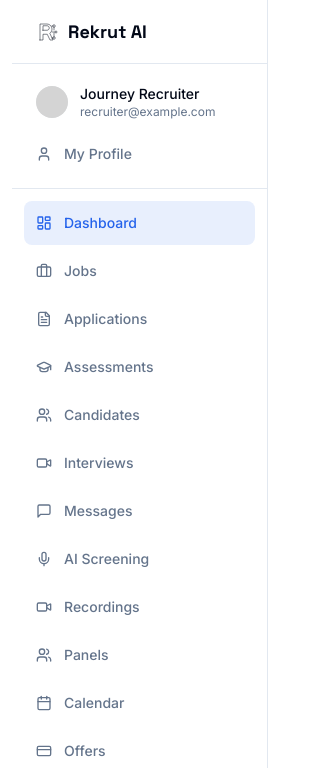
#1636 sidebar My Profile (JT-M1, mobile navigation) › recruiter: sidebar shows their identity and My Profile goes to /recruiter/company
Expected: the text "Journey Recruiter" is shown, [80,85,200,102]
Click the link "My Profile": (84, 154) [36,145,132,162]
(page scrolled)
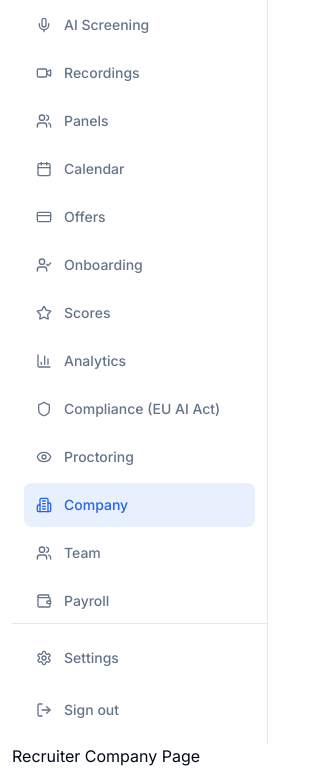
Expected: the text "Recruiter Company Page" is shown, [12,746,200,766]
